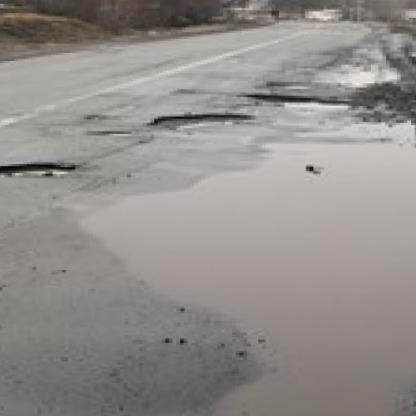pothole: (244, 92, 352, 114), (146, 111, 254, 131), (0, 161, 75, 181), (255, 81, 311, 89), (91, 128, 136, 136), (83, 112, 106, 119)
